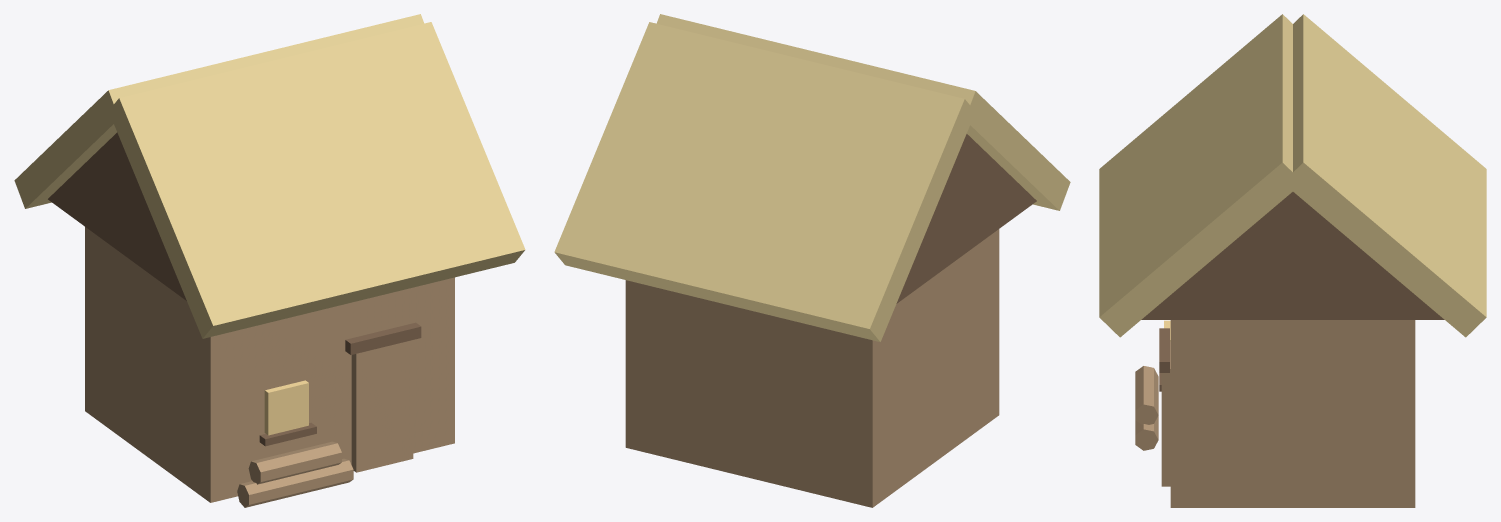
The model's file is cottage_e.glb.
The picture shows the model from 3 angles, left to right: view 1: azimuth 30°, elevation 25°; view 2: azimuth 150°, elevation 25°; view 3: azimuth 270°, elevation 25°; orthographic projection. The views are drawn at different scales.
Parts seen in each view (by area): view 1: Cube.001, Cube, hastial, Cube.002, Cube.003, Cylinder.002, Cube.005, Cylinder, Cube.004, Cylinder.001, Cube.006; view 2: Cube.002, Cube, hastial, Cube.001; view 3: Cube, Cube.001, Cube.002, hastial.001, Cylinder.002, Cube.003, Cylinder.001, Cube.004.
Part boxes in pixels (<box>): Cube.001: <box>108,22,525,338</box>; Cube: <box>85,227,454,502</box>; hastial: <box>48,132,186,300</box>; Cube.002: <box>14,14,424,208</box>; Cube.003: <box>351,340,413,472</box>; Cylinder.002: <box>248,441,341,484</box>; Cube.005: <box>264,380,308,435</box>; Cylinder: <box>237,468,330,507</box>; Cube.004: <box>345,322,421,354</box>; Cylinder.001: <box>269,458,353,501</box>; Cube.006: <box>259,422,316,446</box>; Cube.002: <box>554,22,975,341</box>; Cube: <box>625,229,999,507</box>; hastial: <box>896,134,1036,303</box>; Cube.001: <box>656,14,1070,210</box>; Cube: <box>1170,320,1415,507</box>; Cube.001: <box>1099,14,1303,337</box>; Cube.002: <box>1283,14,1486,337</box>; hastial.001: <box>1141,192,1444,319</box>; Cylinder.002: <box>1135,366,1158,424</box>; Cube.003: <box>1161,342,1170,486</box>; Cylinder.001: <box>1135,416,1158,450</box>; Cube.004: <box>1159,328,1169,372</box>.
Bounding box in the file's own units: 2.3 × 2.62 × 2.54.
